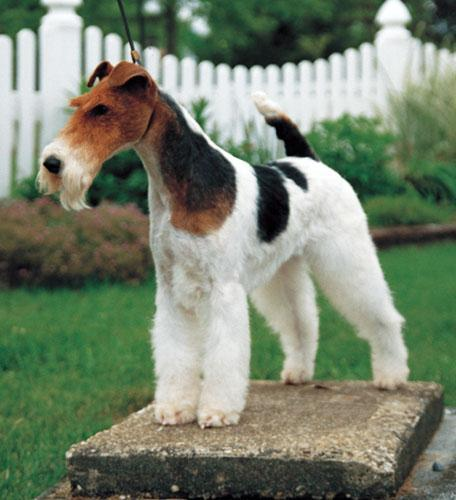wire-haired_fox_terrier: (32, 58, 409, 426)
